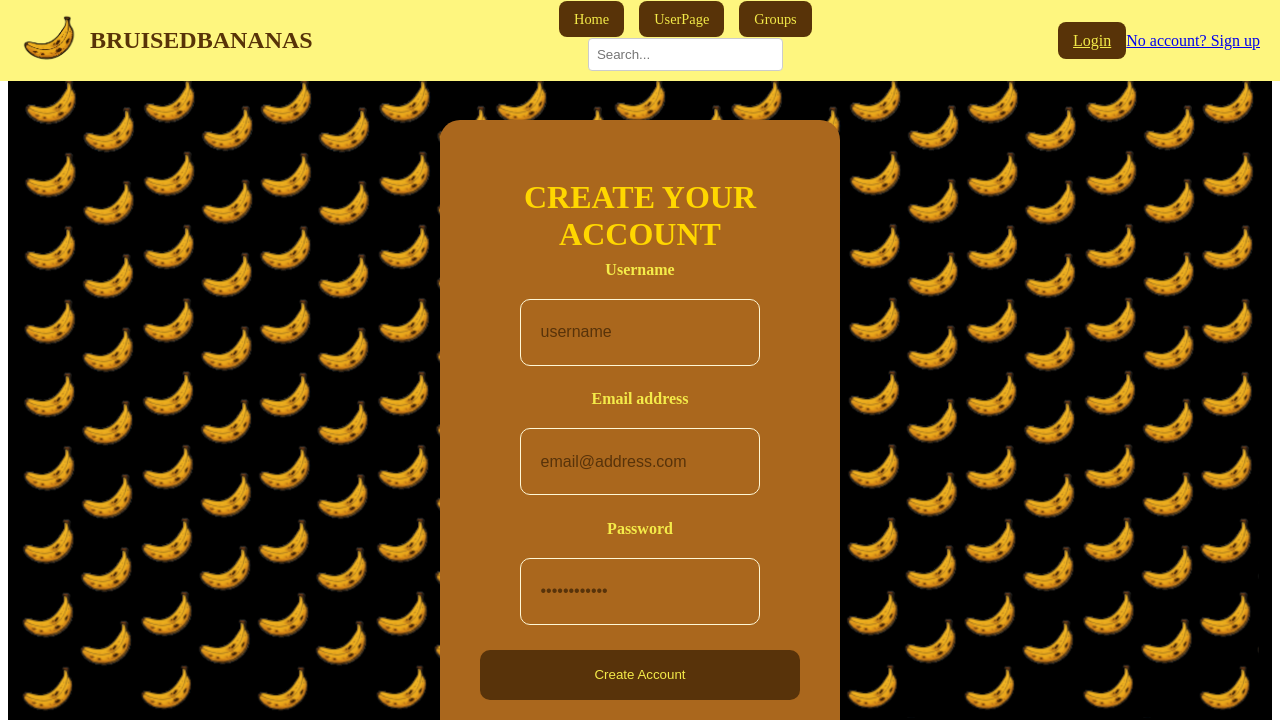
Test case: Register component (new tests) › shows generic error on network failure
Type "john" into the field with placeholder "username" at point(644, 332), box top-left (538, 306), bottom-right (750, 358)
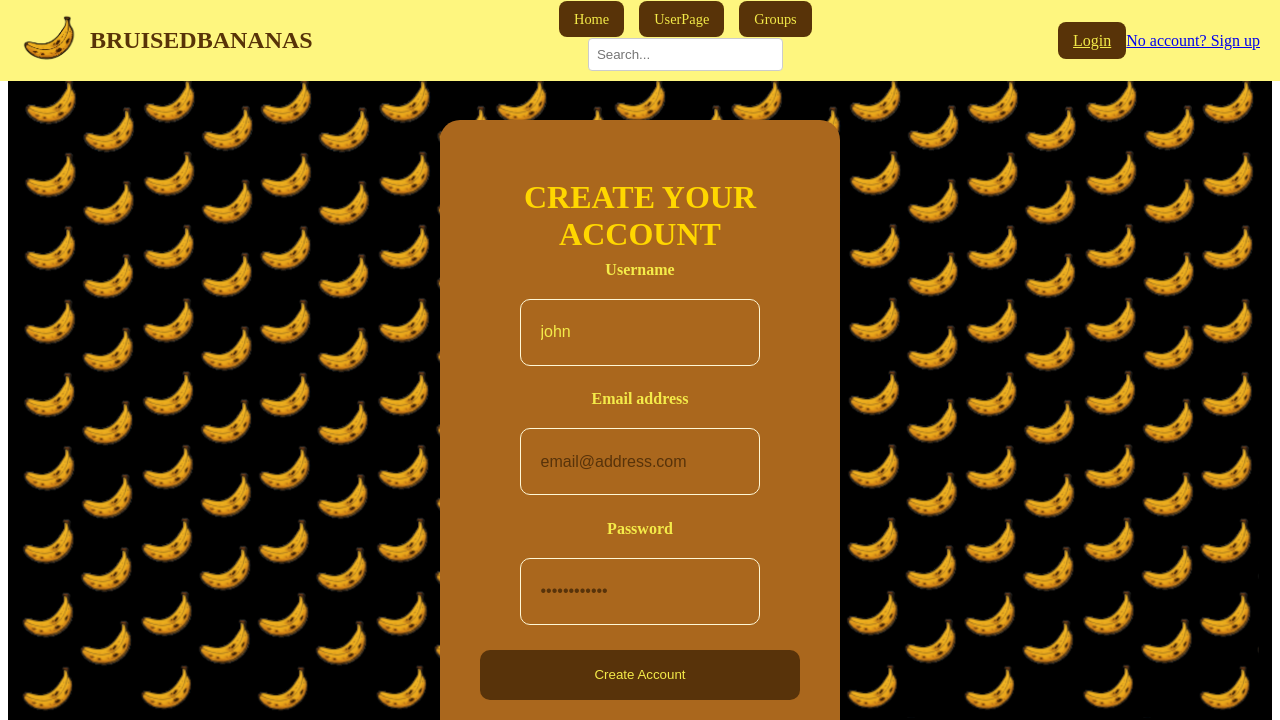
Type "john@test.com" into the field with placeholder "email@address.com" at point(644, 462), box top-left (538, 436), bottom-right (750, 488)
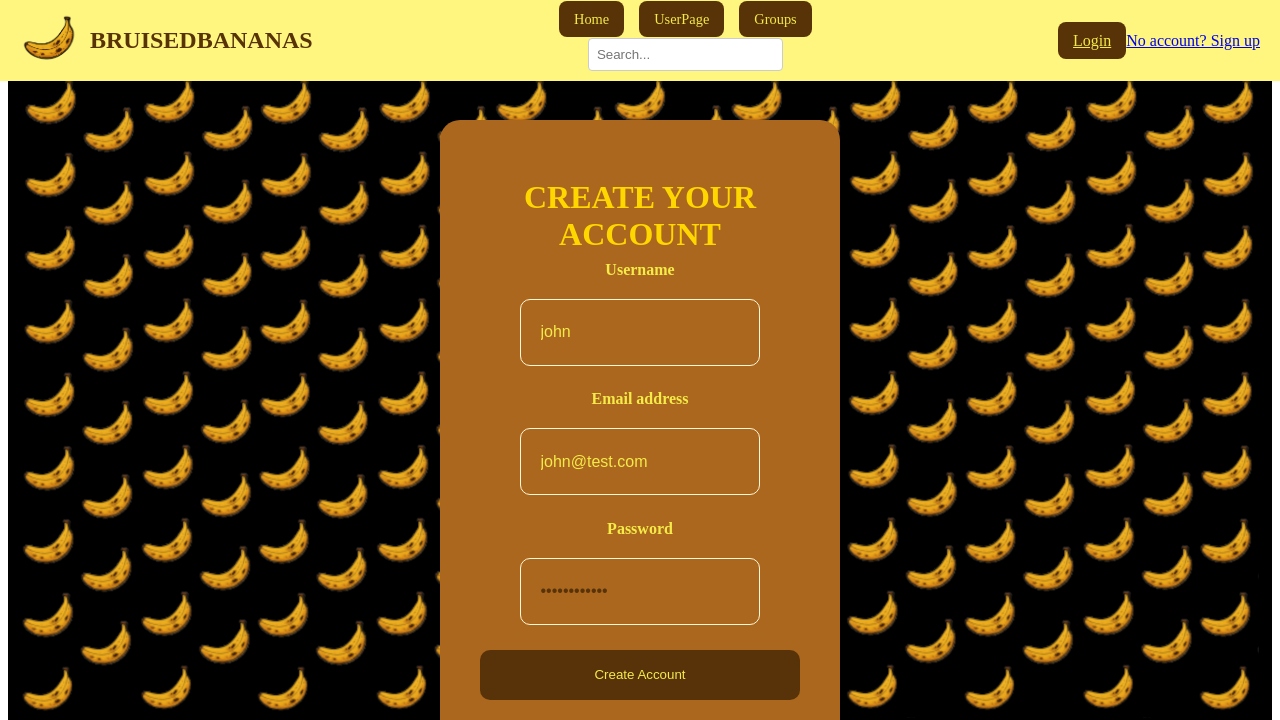
Type "password" into the password field with placeholder "••••••••••••" at point(644, 592), box top-left (538, 566), bottom-right (750, 618)
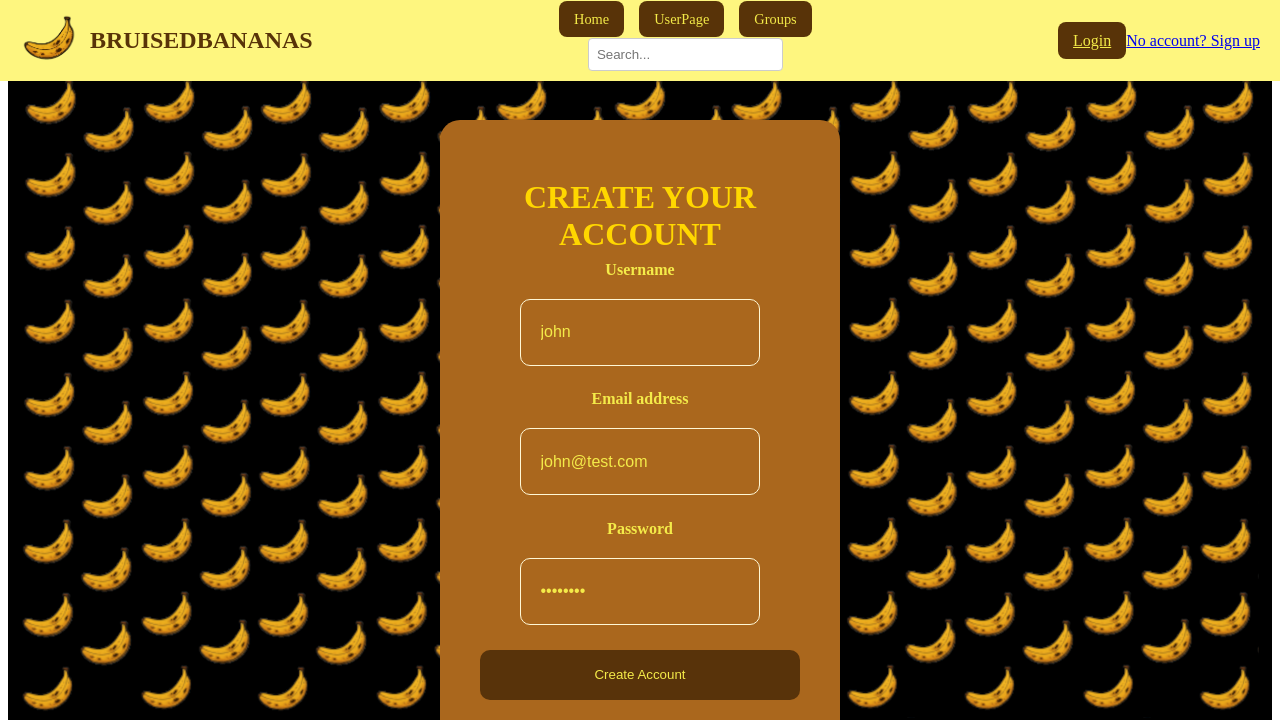
Click the button "Create Account" at point(640, 675), box top-left (480, 650), bottom-right (800, 700)
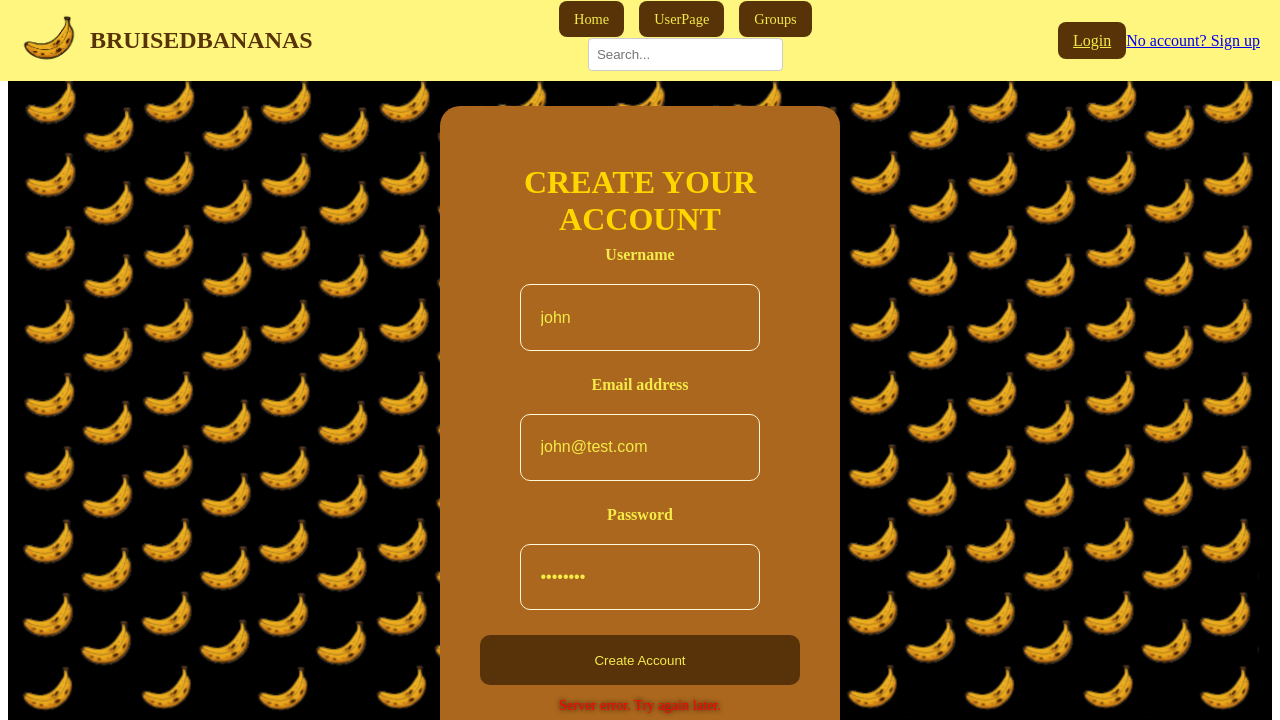
Expected: the text "Server error. Try again later." is shown, top-left (559, 697), bottom-right (721, 714)
